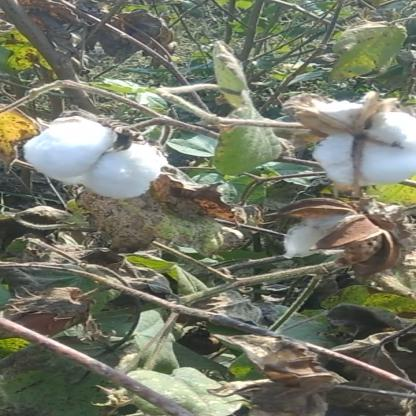cotton_ready: (12, 108, 176, 219), (245, 87, 415, 192)
